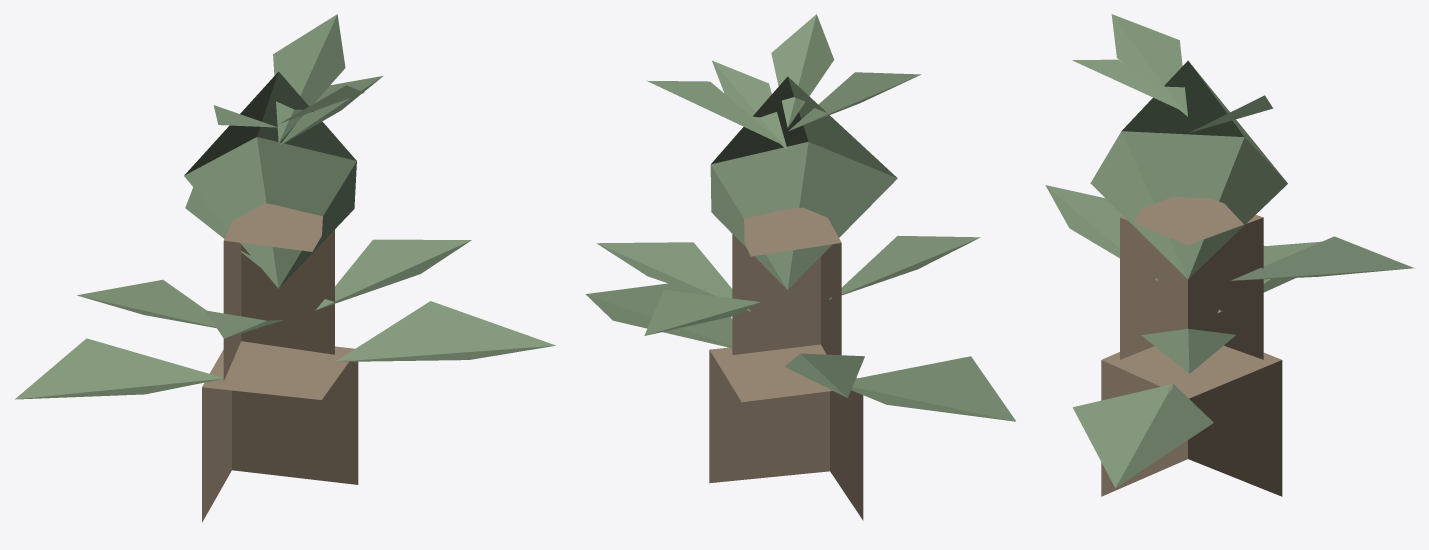
File: shui.huwei@seedling__autumn.glb
3 views of the same model, side by side, from view 1: azimuth 30°, elevation 25°; view 2: azimuth 150°, elevation 25°; view 3: azimuth 270°, elevation 25° (orthographic). The views are drawn at different scales.
Visible parts, largest first — view 1: shui.huwei@seedling__autumn; view 2: shui.huwei@seedling__autumn; view 3: shui.huwei@seedling__autumn.
Boxes of the visible parts, x1,y1,x2,y2 form: shui.huwei@seedling__autumn: (15, 14, 555, 522); shui.huwei@seedling__autumn: (585, 14, 1015, 520); shui.huwei@seedling__autumn: (1045, 14, 1414, 496).
Bounding box in the file's own units: 0.1003 × 0.0874 × 0.065.
